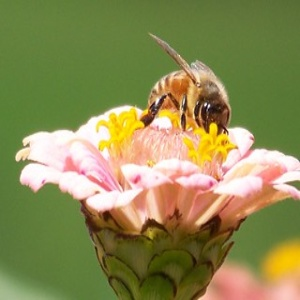bee: (145, 45, 230, 138)
